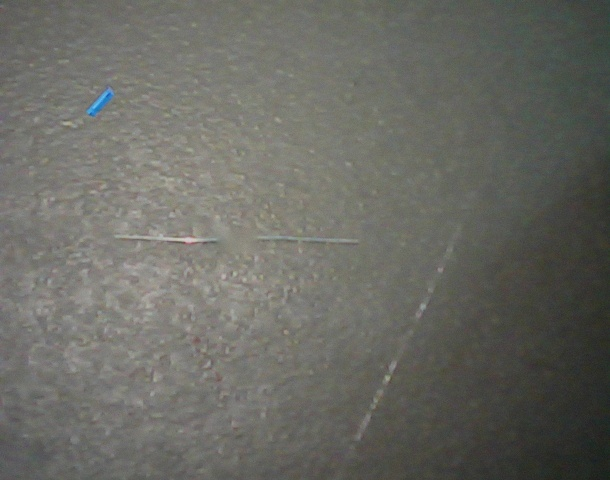capacitor: (86, 85, 114, 117)
